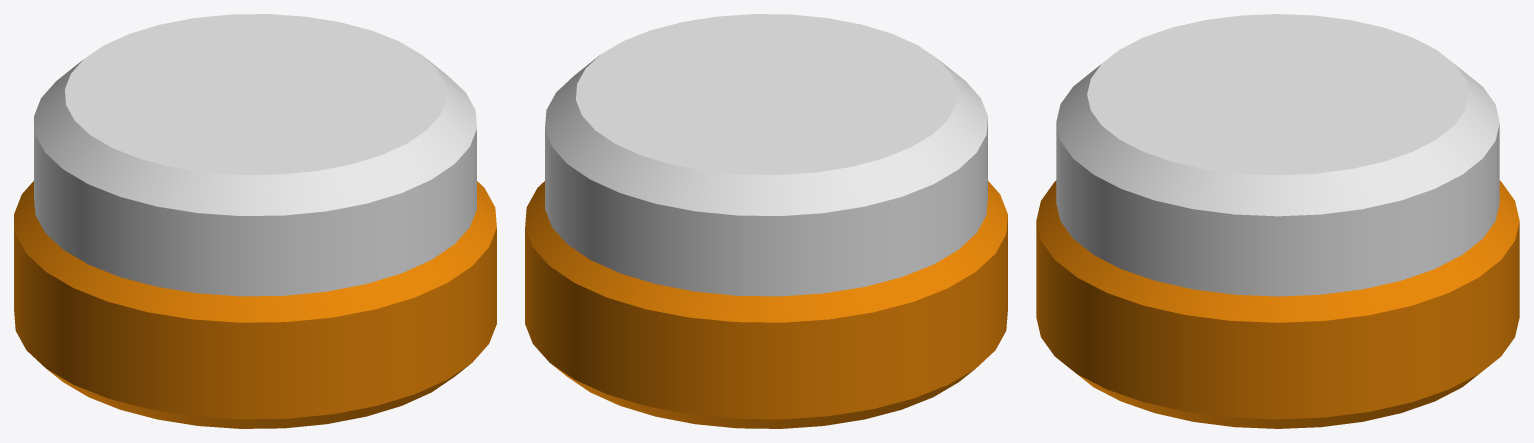
File: PinConnector02.fbx
The picture shows the model from 3 angles, left to right: view 1: azimuth 30°, elevation 25°; view 2: azimuth 150°, elevation 25°; view 3: azimuth 270°, elevation 25°; orthographic projection.
Visible parts, largest first — view 1: PinConnetor02Mesh; view 2: PinConnetor02Mesh; view 3: PinConnetor02Mesh.
Boxes of the visible parts, bbox=[...] form: PinConnetor02Mesh: bbox=[14, 14, 496, 428]; PinConnetor02Mesh: bbox=[525, 14, 1007, 428]; PinConnetor02Mesh: bbox=[1036, 14, 1519, 428].
Bounding box in the file's own units: 218 × 120 × 218.
